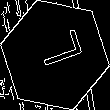L_W: (27, 32, 83, 78)
